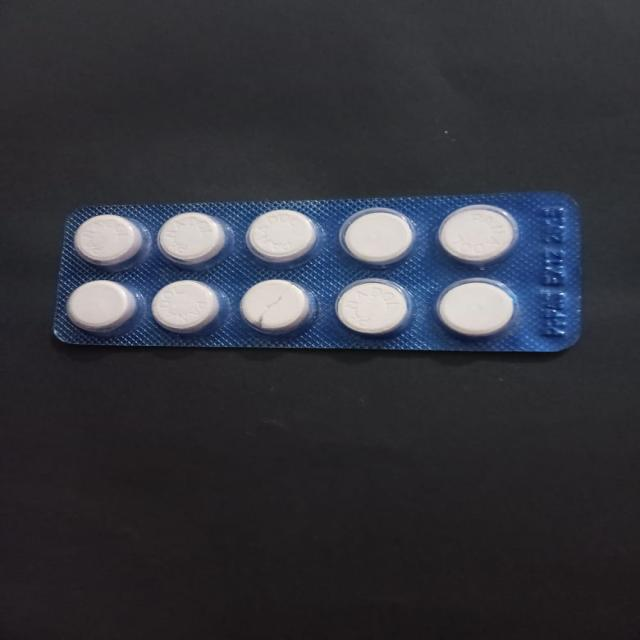defect: (238, 277, 320, 337)
